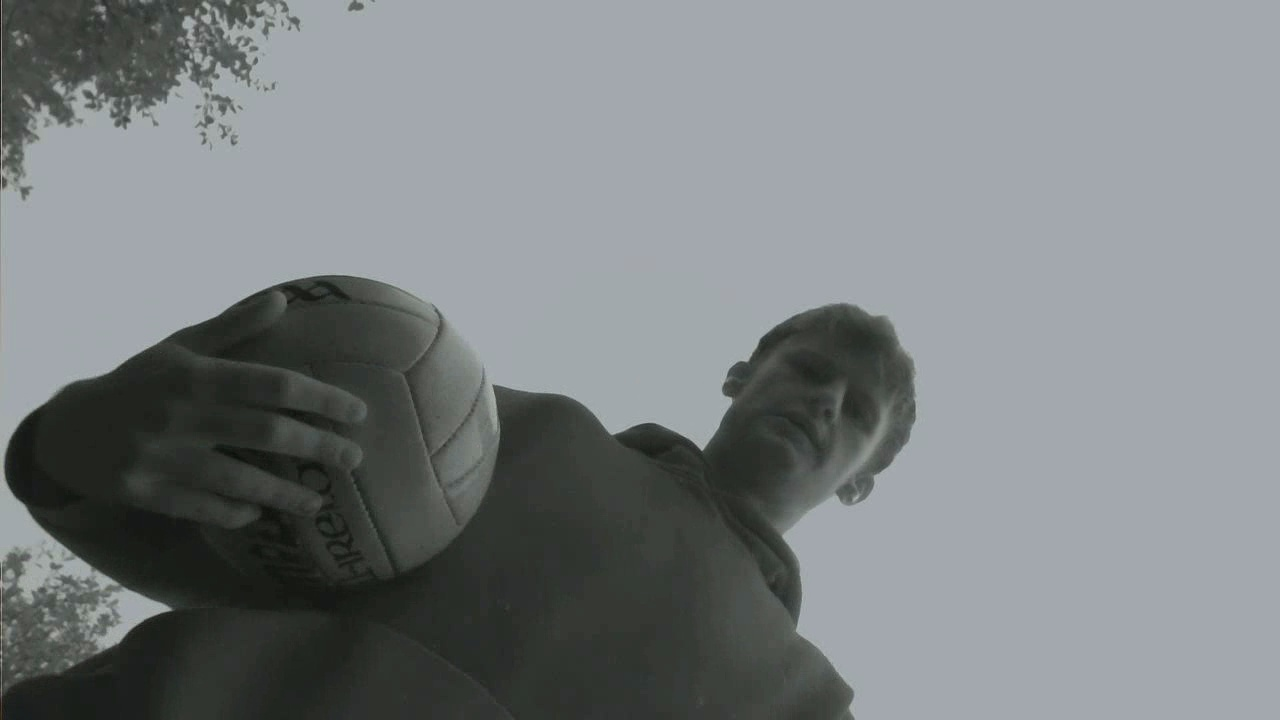Football-Spotter: (199, 276, 498, 591)
